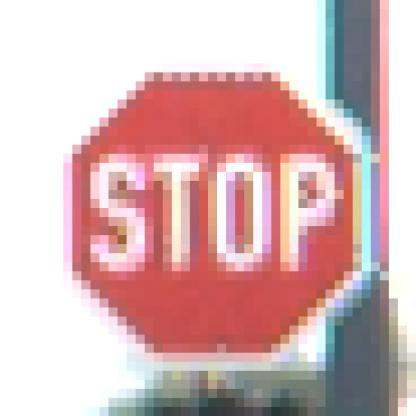stop: (40, 48, 397, 375)
